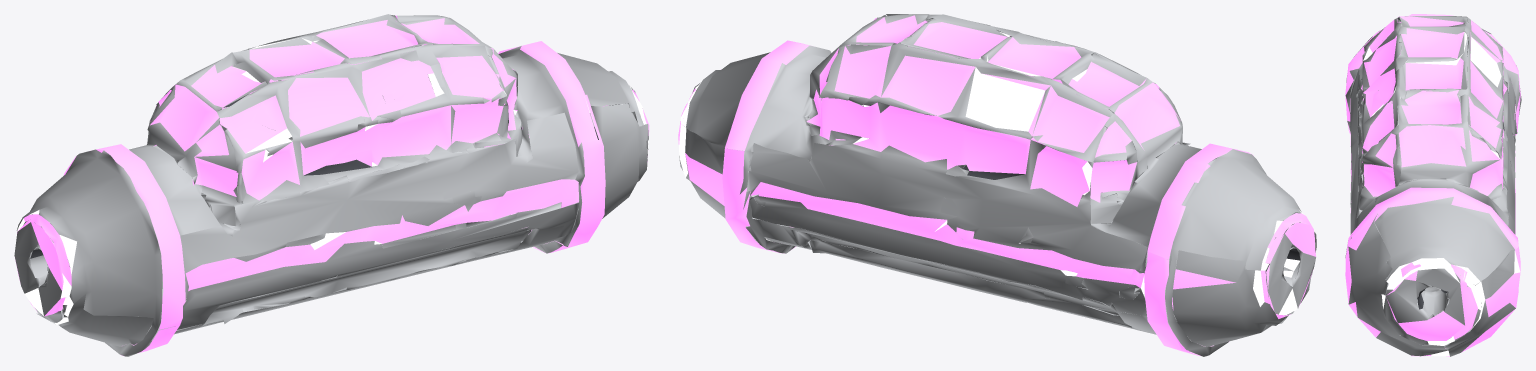
Rendered from SM_Farm_v1_slots.fbx.
3 views of the same model, side by side, from view 1: azimuth 30°, elevation 25°; view 2: azimuth 150°, elevation 25°; view 3: azimuth 270°, elevation 25° (orthographic). The views are drawn at different scales.
Parts seen in each view (by area): view 1: SM_Farm; view 2: SM_Farm; view 3: SM_Farm.
Boxes of the visible parts, x1,y1,x2,y2 form: SM_Farm: (14, 14, 649, 356); SM_Farm: (678, 14, 1316, 356); SM_Farm: (1345, 14, 1521, 356).
Bounding box in the file's own units: 1.92 × 0.7747 × 0.5913.
